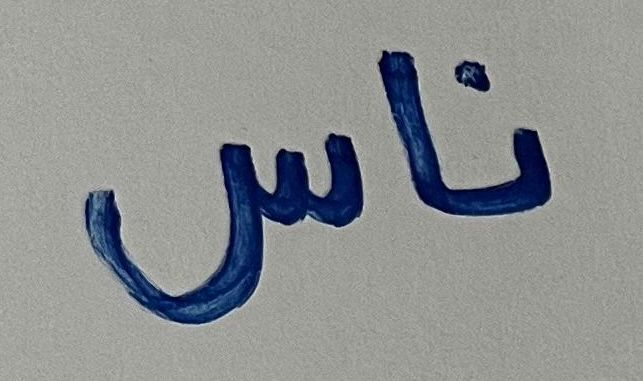alef: (375, 35, 444, 221)
noon: (449, 43, 572, 256)
seen: (63, 76, 368, 339)
